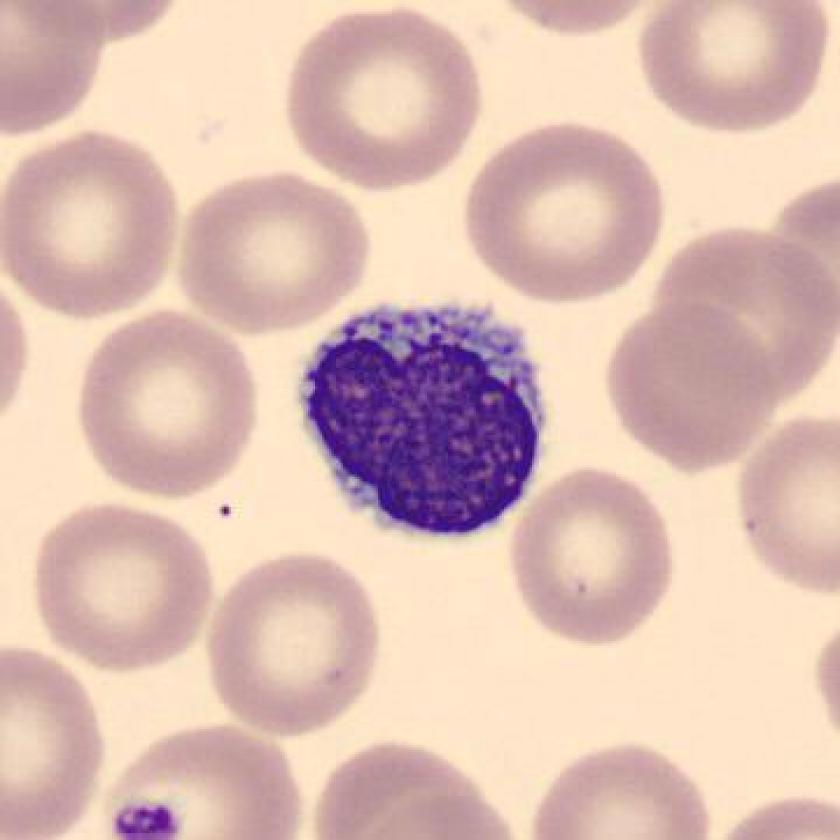lymphocyte: (290, 283, 568, 561)
